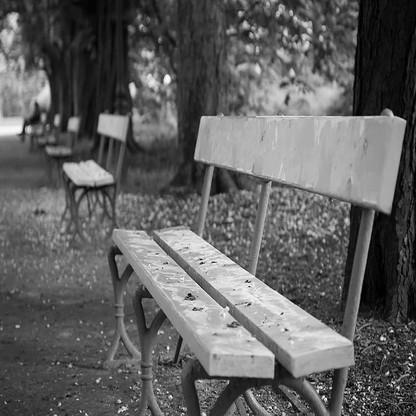obstacle: (132, 85, 394, 410), (64, 106, 123, 229)
